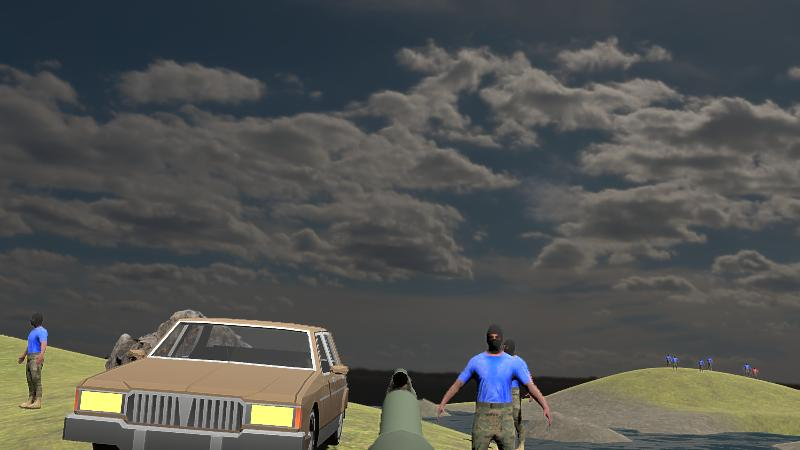Human: (438, 324, 551, 450), (18, 312, 47, 410), (18, 312, 47, 409)
car: (63, 311, 351, 448)
